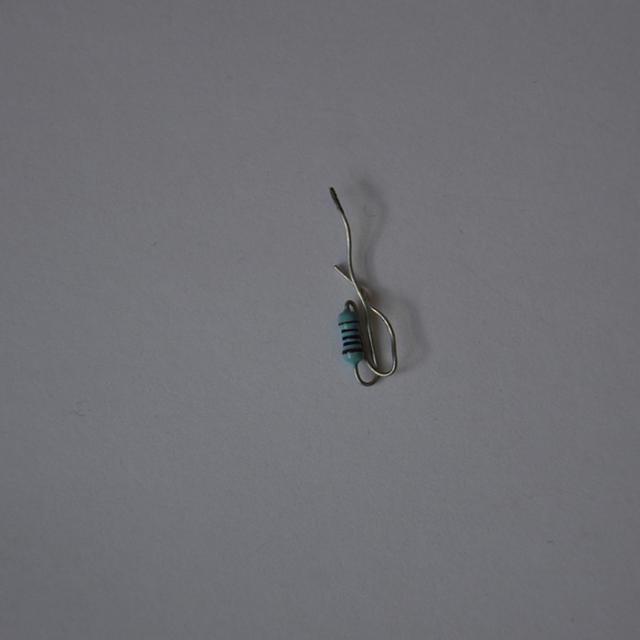Resistor Carbon-Film: (337, 310, 366, 363)
